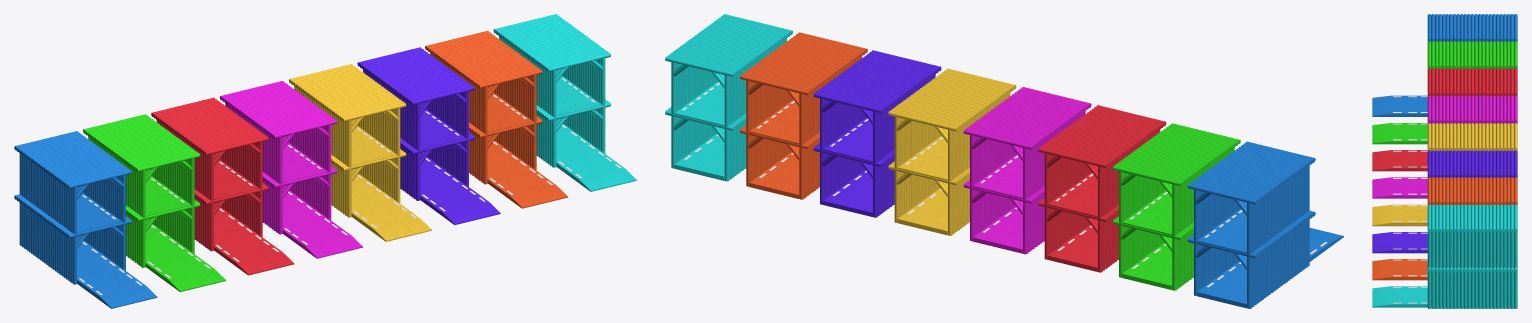
File: farming-parking-complete.glb
3 renders of one model, left to right at view 1: azimuth 30°, elevation 25°; view 2: azimuth 150°, elevation 25°; view 3: azimuth 270°, elevation 25°, orthographic. The views are drawn at different scales.
Parts seen in each view (by area): view 1: Merged_eight_colored_parking_bays, Merged_eight_colored_parking_bays_4, Merged_eight_colored_parking_bays_7, Merged_eight_colored_parking_bays_3, Merged_eight_colored_parking_bays_1, Merged_eight_colored_parking_bays_5, Merged_eight_colored_parking_bays_2, Merged_eight_colored_parking_bays_6, Merged_eight_colored_parking_bays_8; view 2: Merged_eight_colored_parking_bays, Merged_eight_colored_parking_bays_4, Merged_eight_colored_parking_bays_7, Merged_eight_colored_parking_bays_1, Merged_eight_colored_parking_bays_5, Merged_eight_colored_parking_bays_3, Merged_eight_colored_parking_bays_2, Merged_eight_colored_parking_bays_6, Merged_eight_colored_parking_bays_8; view 3: Merged_eight_colored_parking_bays_7, Merged_eight_colored_parking_bays_4, Merged_eight_colored_parking_bays_3, Merged_eight_colored_parking_bays_6, Merged_eight_colored_parking_bays_1, Merged_eight_colored_parking_bays_2, Merged_eight_colored_parking_bays_5, Merged_eight_colored_parking_bays, Merged_eight_colored_parking_bays_8.
Part boxes in pixels (left/top/right/bottom): Merged_eight_colored_parking_bays: left=14, top=131, right=157, bottom=308; Merged_eight_colored_parking_bays_4: left=289, top=64, right=431, bottom=241; Merged_eight_colored_parking_bays_7: left=493, top=14, right=636, bottom=191; Merged_eight_colored_parking_bays_3: left=219, top=81, right=362, bottom=258; Merged_eight_colored_parking_bays_1: left=83, top=114, right=225, bottom=291; Merged_eight_colored_parking_bays_5: left=357, top=47, right=500, bottom=224; Merged_eight_colored_parking_bays_2: left=151, top=97, right=294, bottom=275; Merged_eight_colored_parking_bays_6: left=425, top=31, right=567, bottom=208; Merged_eight_colored_parking_bays_8: left=78, top=78, right=621, bottom=295; Merged_eight_colored_parking_bays: left=1187, top=141, right=1343, bottom=308; Merged_eight_colored_parking_bays_4: left=888, top=68, right=1016, bottom=235; Merged_eight_colored_parking_bays_7: left=665, top=14, right=792, bottom=181; Merged_eight_colored_parking_bays_1: left=1112, top=123, right=1240, bottom=290; Merged_eight_colored_parking_bays_5: left=813, top=50, right=941, bottom=217; Merged_eight_colored_parking_bays_3: left=963, top=87, right=1091, bottom=254; Merged_eight_colored_parking_bays_2: left=1038, top=105, right=1166, bottom=272; Merged_eight_colored_parking_bays_6: left=740, top=32, right=867, bottom=199; Merged_eight_colored_parking_bays_8: left=682, top=82, right=1327, bottom=287; Merged_eight_colored_parking_bays_7: left=1372, top=204, right=1517, bottom=308; Merged_eight_colored_parking_bays_4: left=1372, top=123, right=1517, bottom=226; Merged_eight_colored_parking_bays_3: left=1372, top=95, right=1517, bottom=198; Merged_eight_colored_parking_bays_6: left=1372, top=177, right=1517, bottom=280; Merged_eight_colored_parking_bays_1: left=1372, top=41, right=1517, bottom=144; Merged_eight_colored_parking_bays_2: left=1372, top=68, right=1517, bottom=171; Merged_eight_colored_parking_bays_5: left=1372, top=150, right=1517, bottom=253; Merged_eight_colored_parking_bays: left=1372, top=14, right=1517, bottom=116; Merged_eight_colored_parking_bays_8: left=1393, top=96, right=1427, bottom=303.
Bounding box in the file's own units: 57.23 × 10.12 × 16.33.
9 materials, 9 textured.
